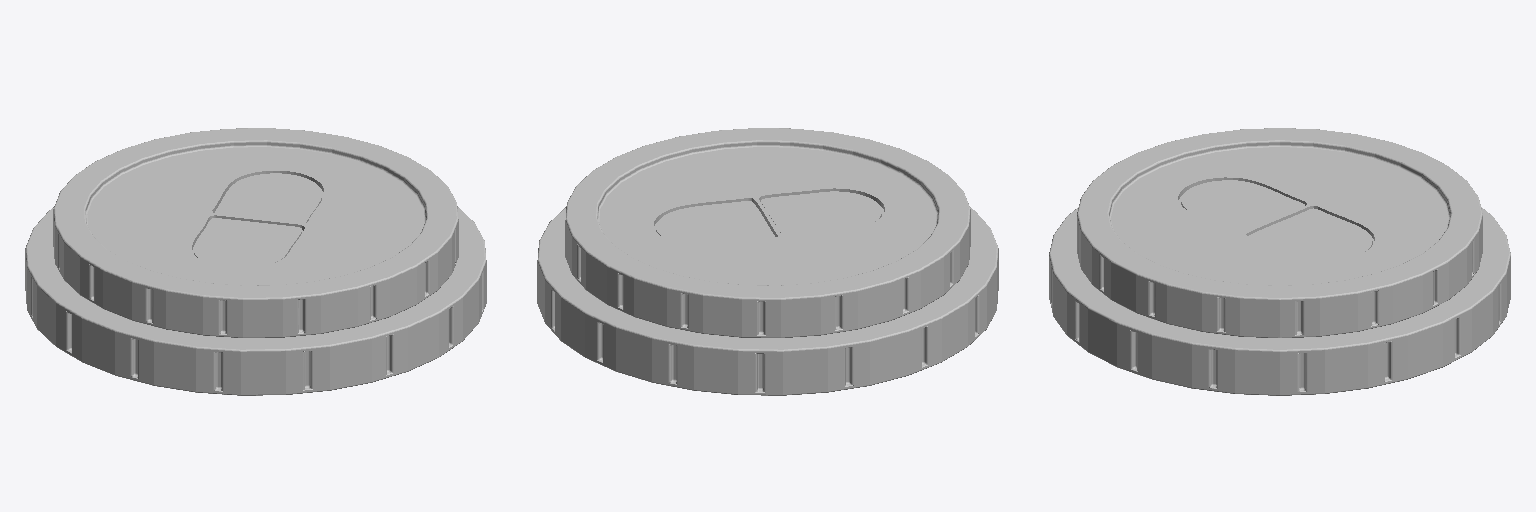
Rendered from podiumA.obj.
3 renders of one model, left to right at view 1: azimuth 30°, elevation 25°; view 2: azimuth 150°, elevation 25°; view 3: azimuth 270°, elevation 25°, orthographic.
Visible parts, largest first — view 1: Base.001, Pill; view 2: Base.001, Pill; view 3: Base.001, Pill.
Part boxes in pixels (left/top/right/bottom): Base.001: left=25, top=128, right=486, bottom=395; Pill: left=194, top=173, right=321, bottom=268; Base.001: left=537, top=128, right=998, bottom=395; Pill: left=656, top=191, right=881, bottom=245; Base.001: left=1049, top=128, right=1510, bottom=395; Pill: left=1181, top=180, right=1372, bottom=259.
Bounding box in the file's own units: 6.37 × 1.31 × 6.37.